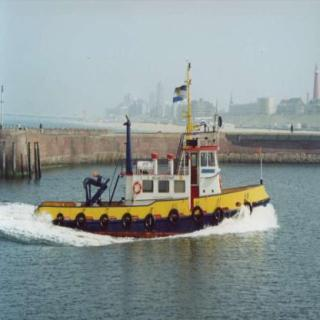Tug Boat: (22, 87, 273, 229)
